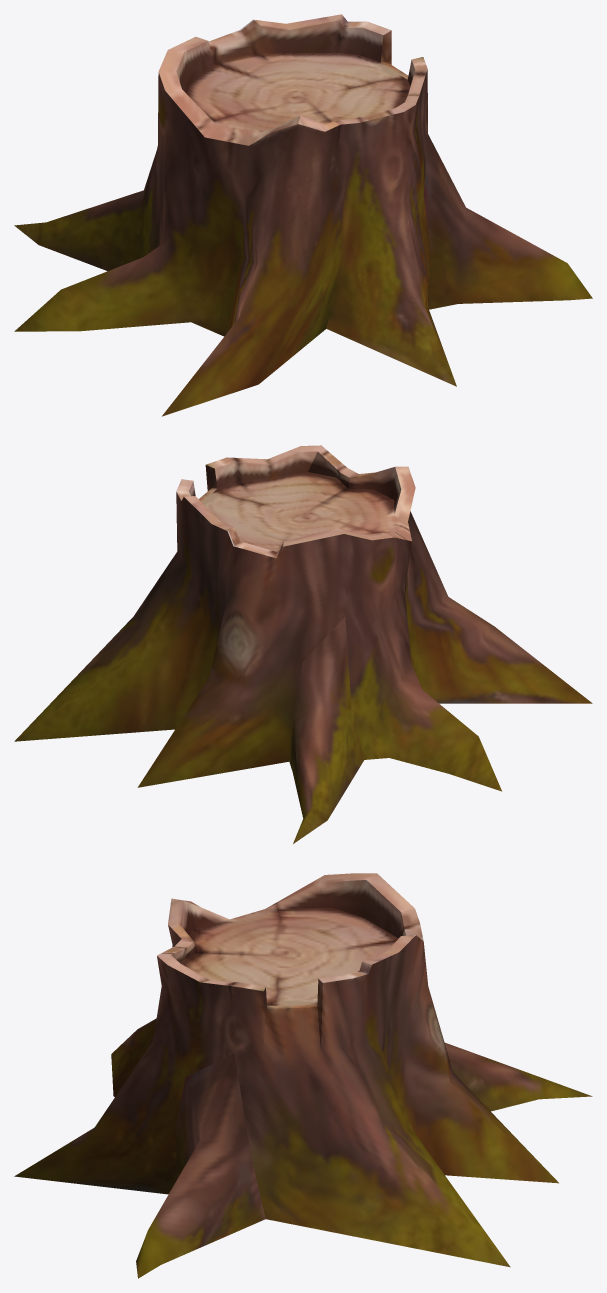
The model's file is kushuzhuang.FBX.
The picture shows the model from 3 angles, top to bottom: view 1: azimuth 30°, elevation 25°; view 2: azimuth 150°, elevation 25°; view 3: azimuth 270°, elevation 25°; orthographic projection. The views are drawn at different scales.
Parts seen in each view (by area): view 1: kushuzhuang; view 2: kushuzhuang; view 3: kushuzhuang.
Boxes of the visible parts, x1,y1,x2,y2 form: kushuzhuang: (14, 14, 592, 416); kushuzhuang: (14, 445, 592, 843); kushuzhuang: (14, 873, 592, 1278).
Bounding box in the file's own units: 3.42 × 1.68 × 3.51.
